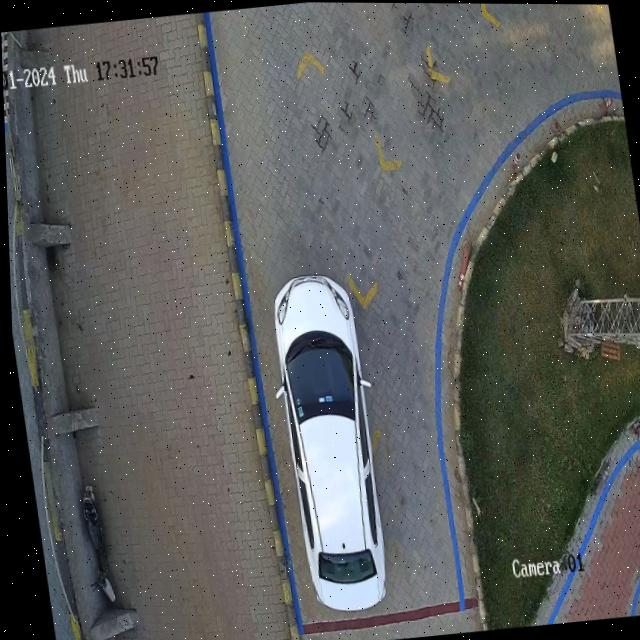car: (271, 273, 381, 610)
